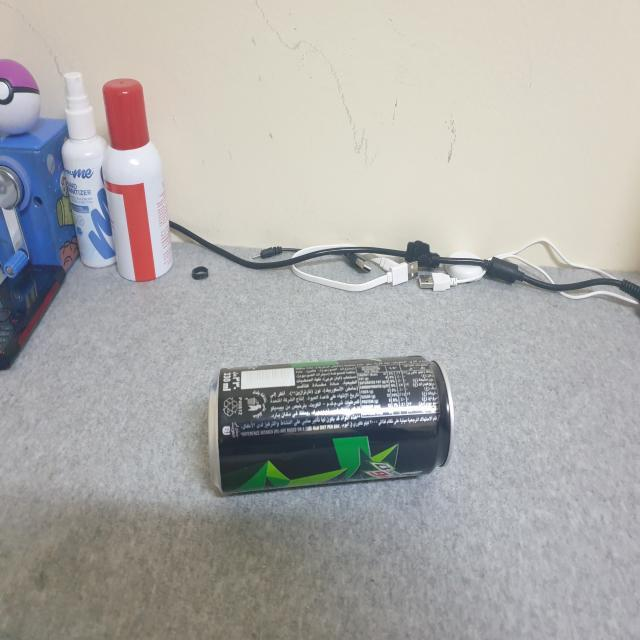can: (199, 345, 461, 515)
